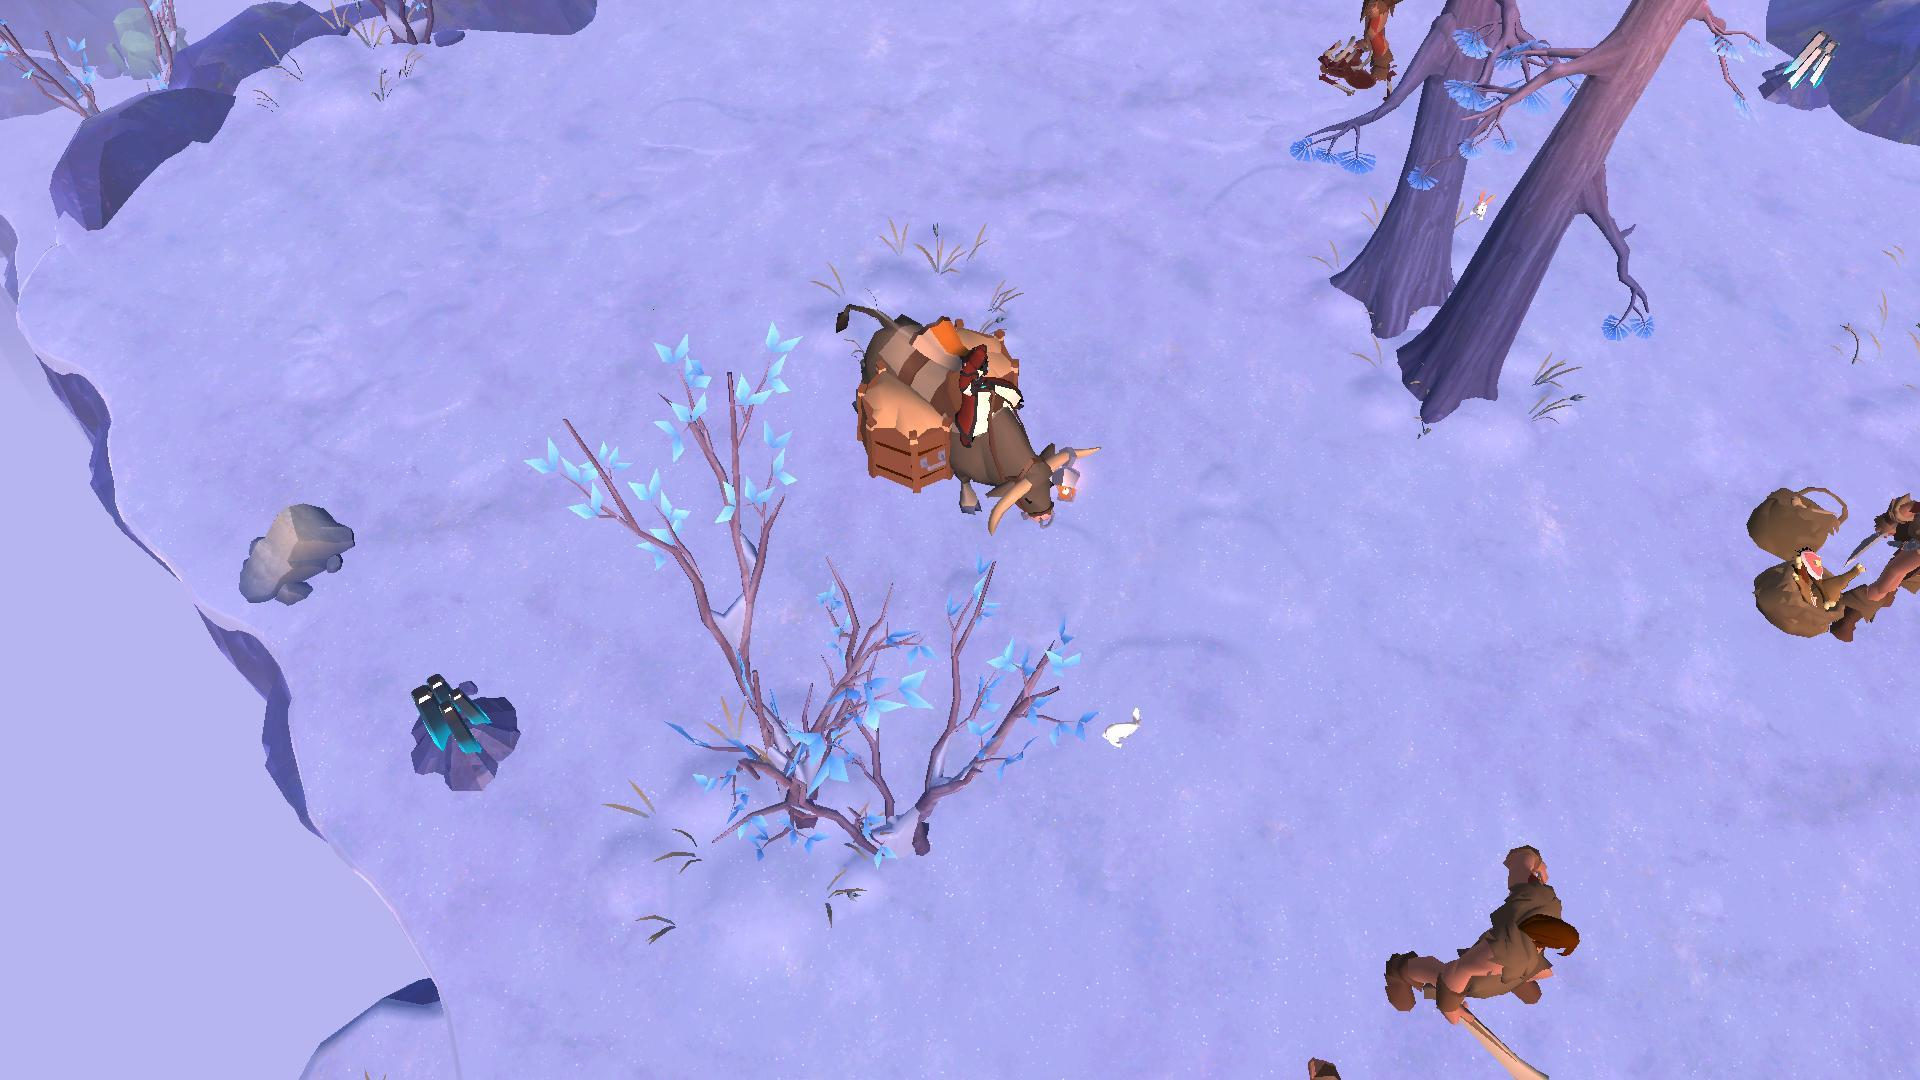enemy_factionKeeper: (1367, 860, 1589, 1048)
ore_t4: (405, 663, 491, 762), (1774, 32, 1844, 96)
rock_t3: (100, 0, 190, 84)
